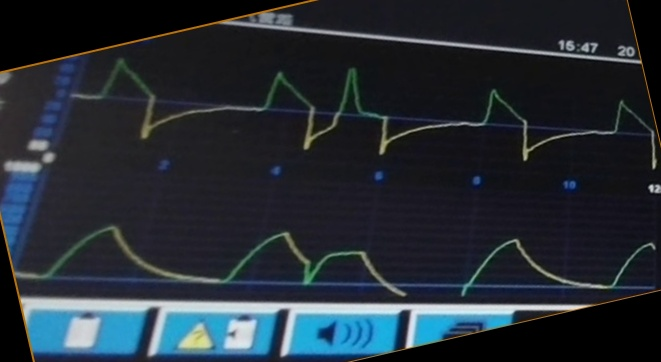Double_Triggering Flow: (89, 56, 604, 163)
Double_Triggering Volume: (42, 218, 634, 296)
